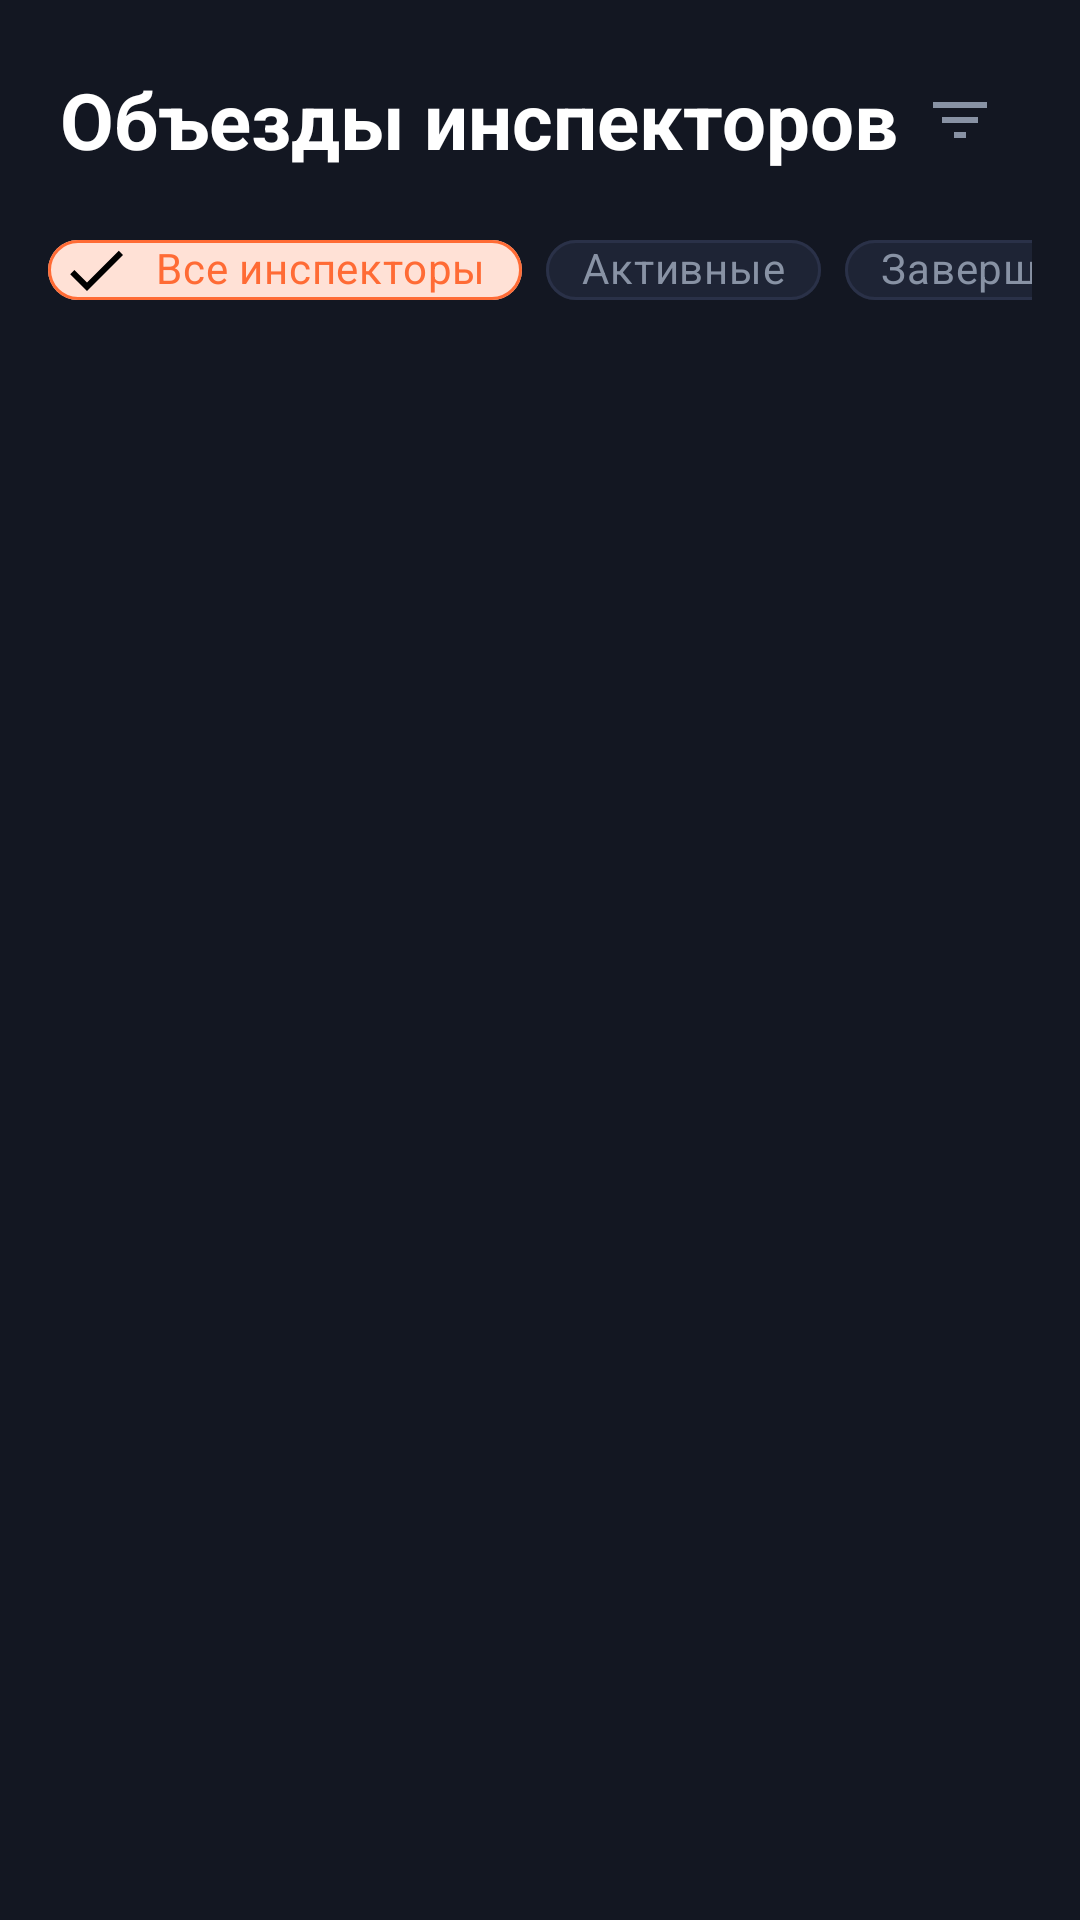

Named icons in this screenshot (1080 × 1920) and their bounding boxes, (x1, y1, x2, y2):
filter: (933, 102, 987, 138)
